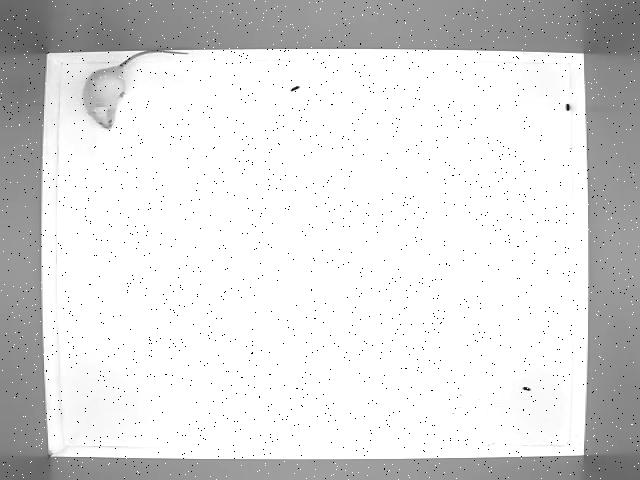Tikus: (80, 46, 192, 132)
